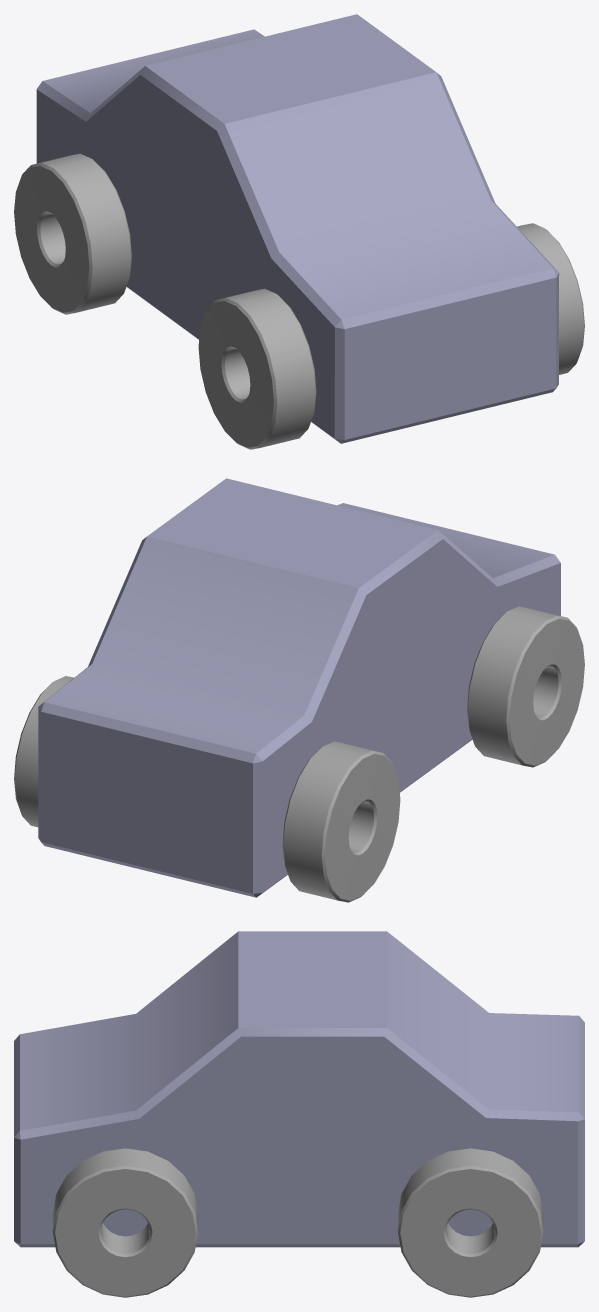
The model's file is toy_car.fbx.
The picture shows the model from 3 angles, top to bottom: view 1: azimuth 30°, elevation 25°; view 2: azimuth 150°, elevation 25°; view 3: azimuth 270°, elevation 25°; orthographic projection. The views are drawn at different scales.
Parts seen in each view (by area): view 1: toy_car; view 2: toy_car; view 3: toy_car.
Boxes of the visible parts, x1,y1,x2,y2 form: toy_car: (14,14,584,449); toy_car: (14,478,584,902); toy_car: (14,931,584,1297).
Bounding box in the file's own units: 139 × 113 × 236.
